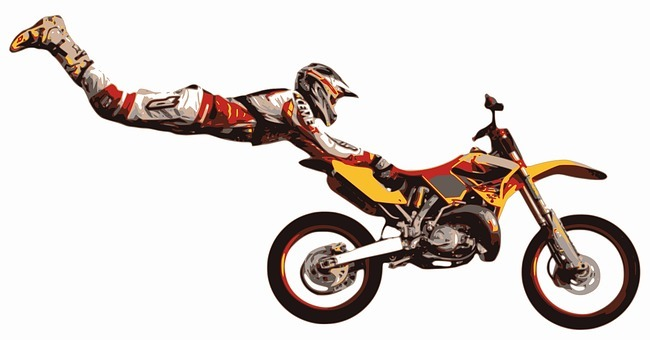motorbike: (258, 96, 639, 333)
person: (7, 8, 392, 172)
